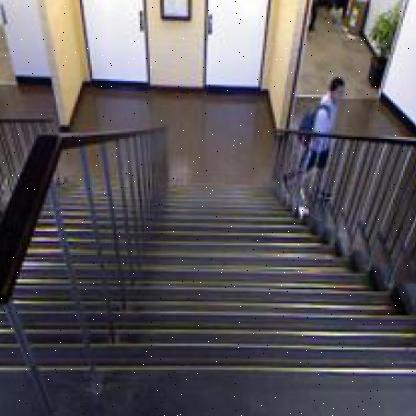stair_down: (133, 275, 416, 416)
